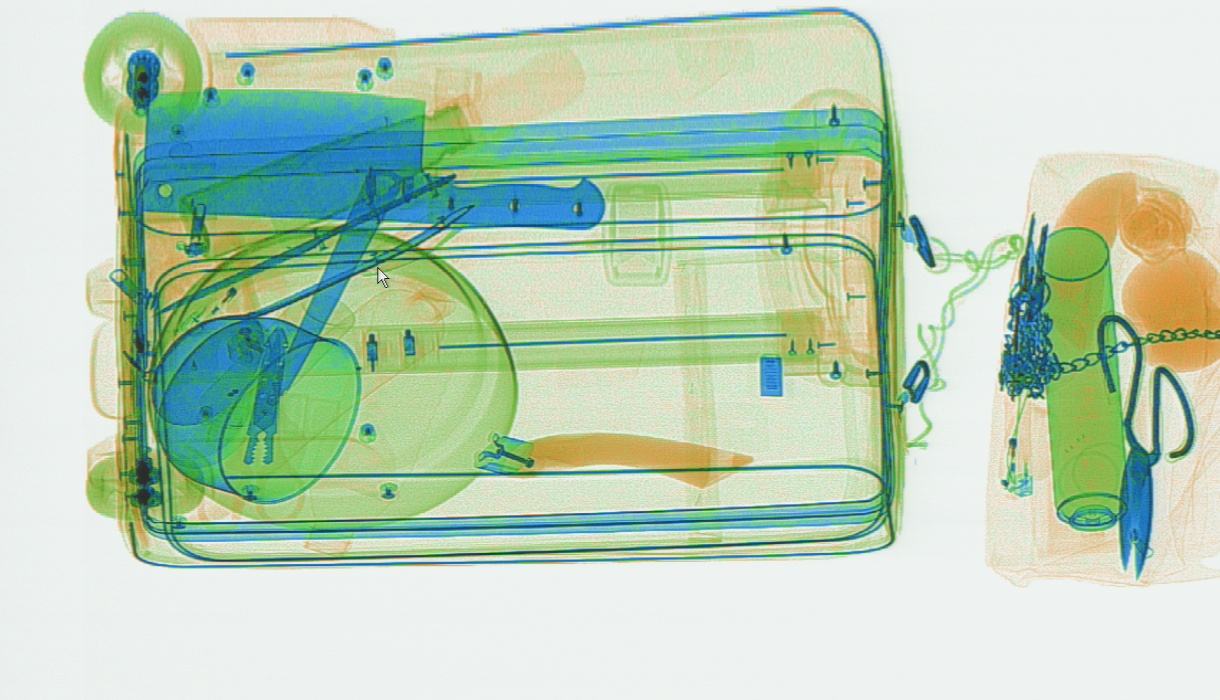knife: (145, 89, 607, 230), (500, 245, 1057, 308)
lighter: (172, 264, 265, 339), (1002, 391, 1037, 497)
pressure: (1031, 228, 1133, 534)
scissors: (1098, 316, 1202, 579), (192, 325, 307, 524)
